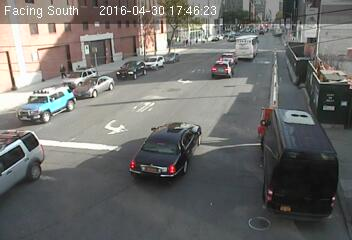neg: (150, 82, 174, 114), (116, 100, 137, 127), (233, 44, 253, 70), (255, 39, 272, 61), (208, 58, 224, 80), (91, 36, 105, 55), (187, 76, 201, 93), (103, 61, 116, 78)
pos: (58, 60, 69, 75), (194, 36, 202, 46), (185, 36, 192, 46)
